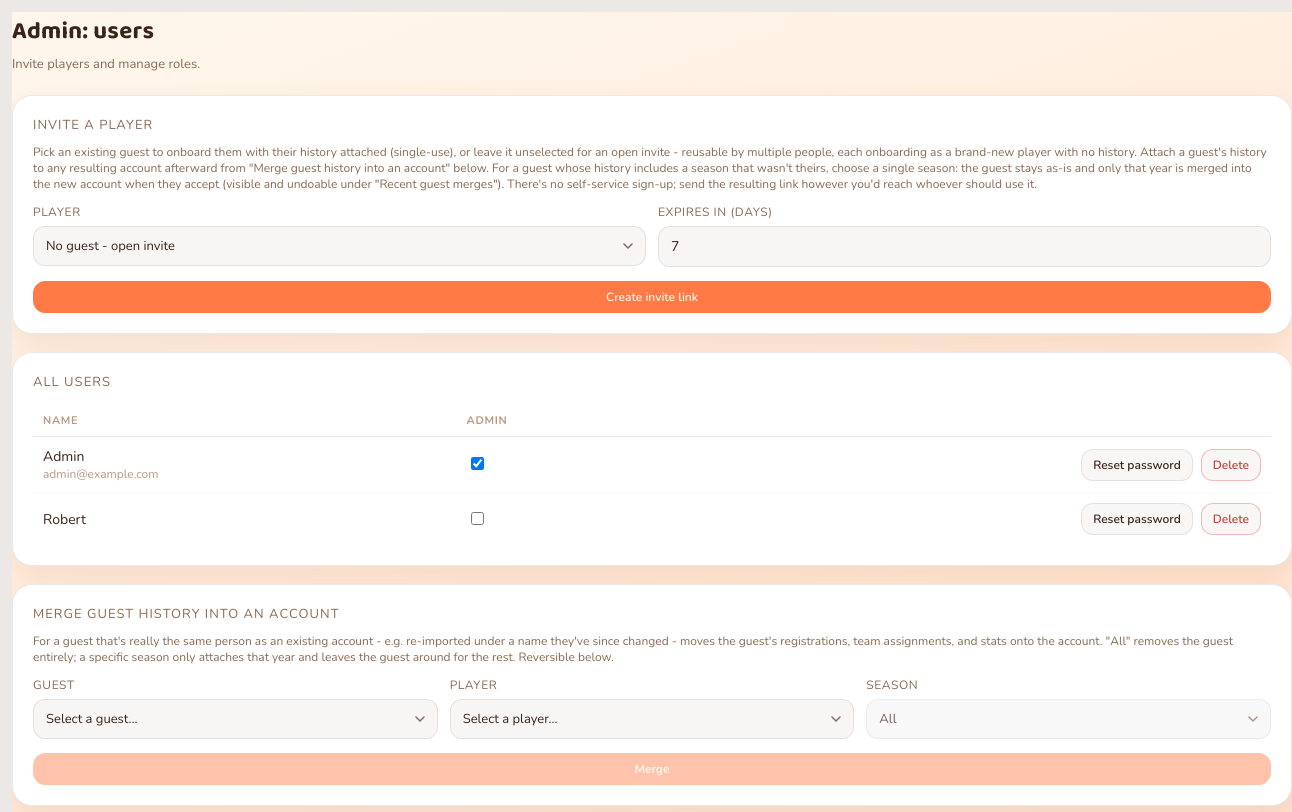
it: AdminUsers - inviting › clamps the expiry to 1-90 days
Replace the text in the number field labelled "Expires in (days)" with "500". click: (964, 246)
box: 658,226 -> 1271,267
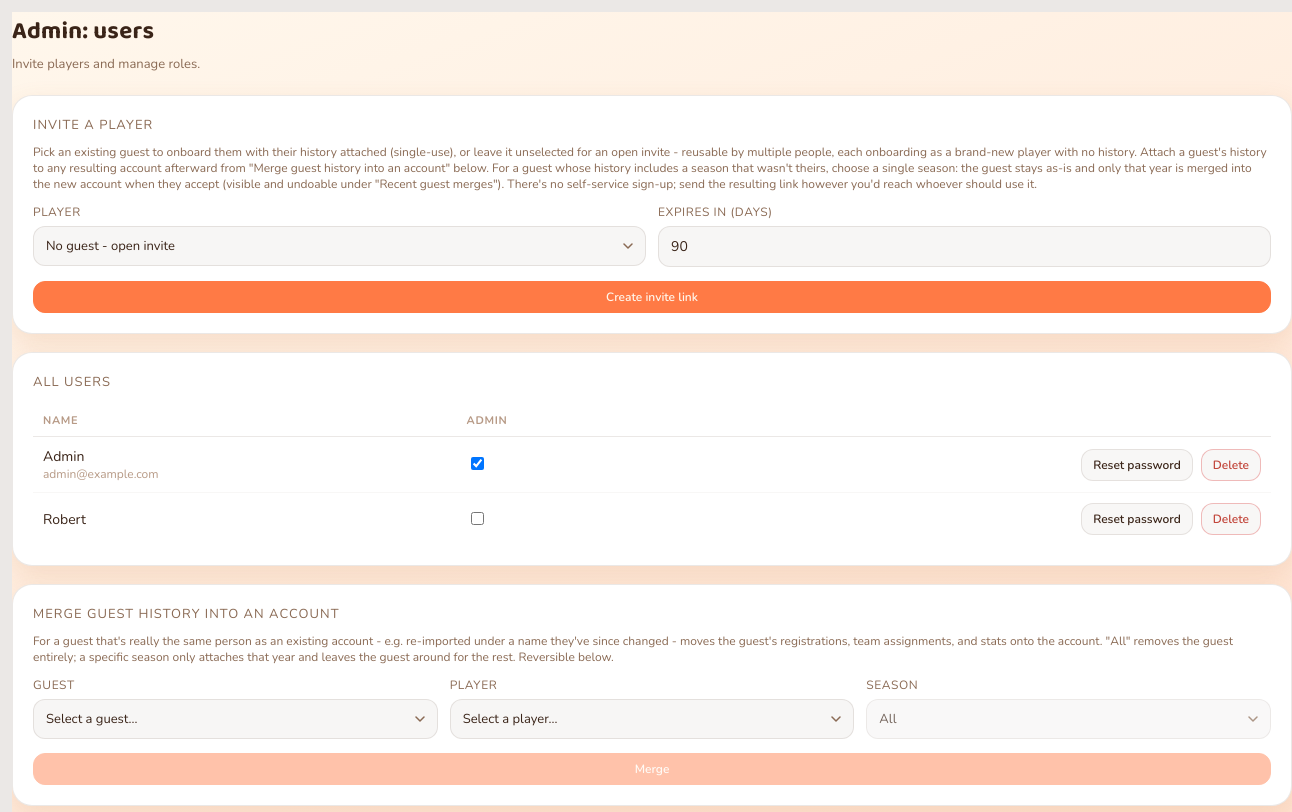
Now the number field labelled "Expires in (days)" holds "90"
Replace the text in the number field labelled "Expires in (days)" with "0". click: (964, 246)
box: 658,226 -> 1271,267
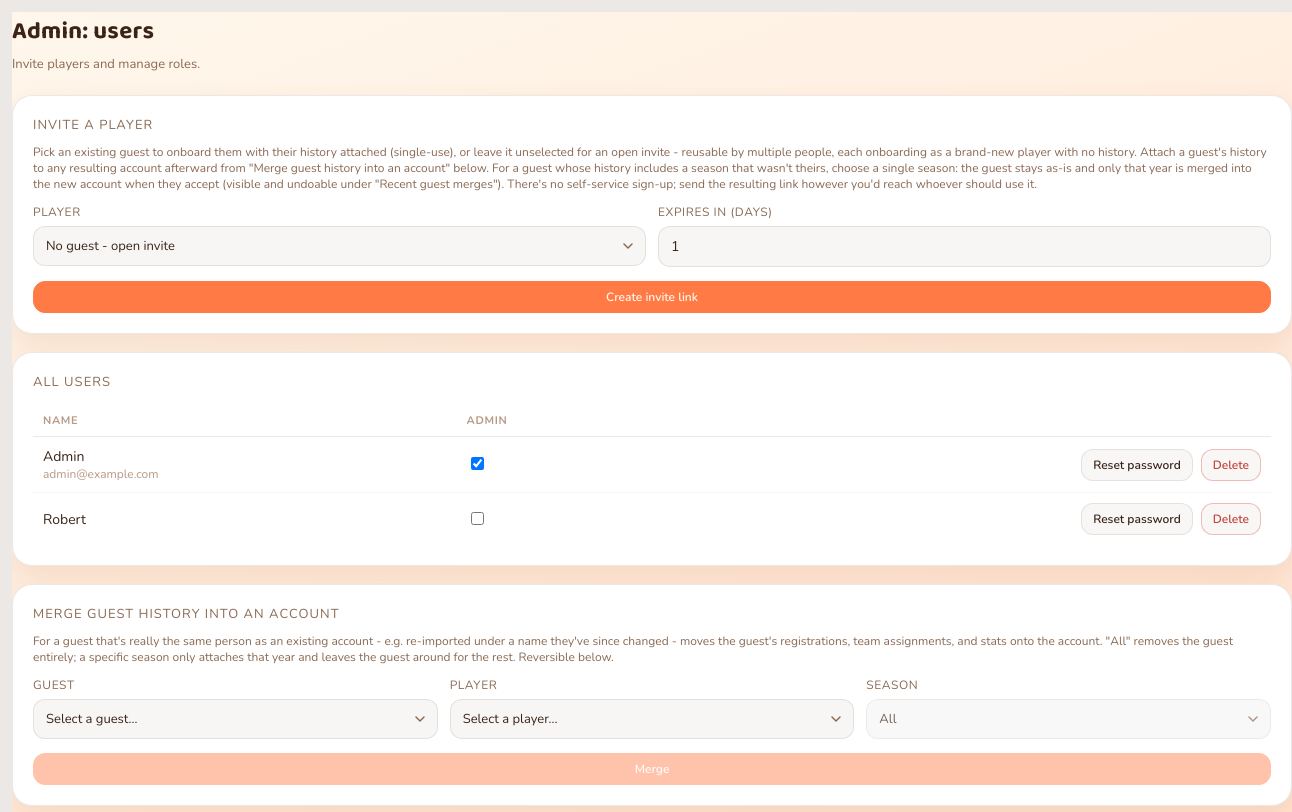
Now the number field labelled "Expires in (days)" holds "1", box 658,226 -> 1271,267
